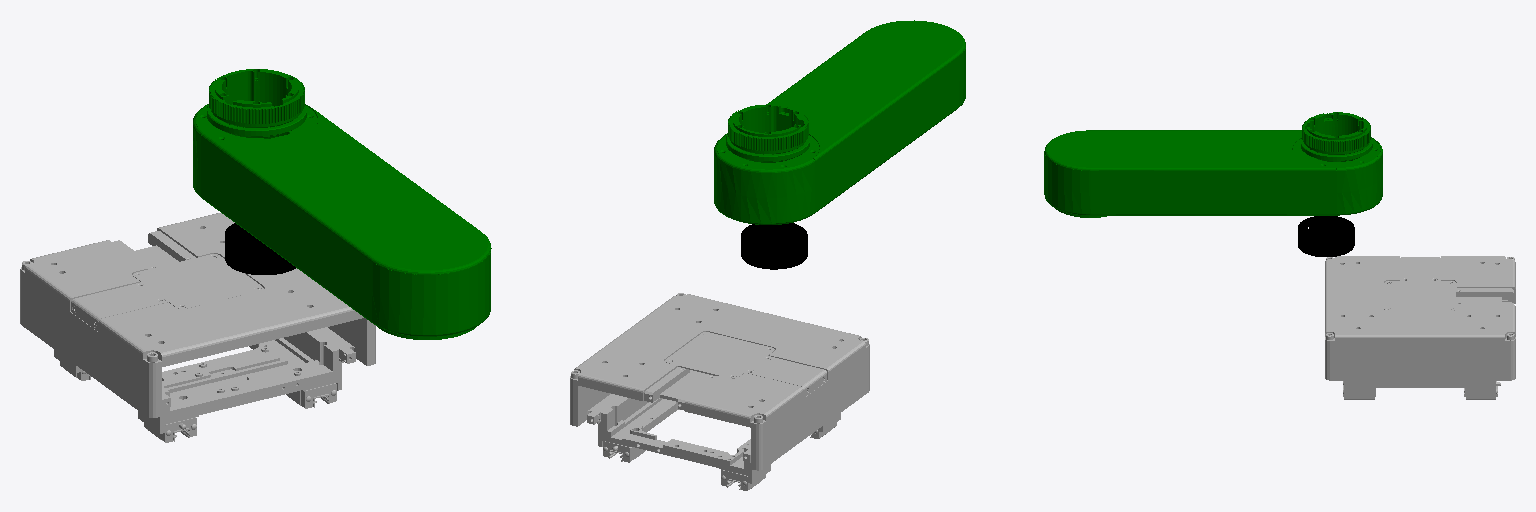
robot.urdf — pf400_description:
<?xml version="1.0" encoding="utf-8"?>
<!-- This URDF was automatically created by SolidWorks to URDF Exporter! Originally created by [author] ([email redacted]) 
     Commit Version: 1.6.0-4-g7f85cfe  Build Version: 1.6.7995.38578
     For more information, please see http://wiki.ros.org/sw_urdf_exporter -->
<robot
  name="pf400_description">
  <link
    name="base_link">
    <inertial>
      <origin
        xyz="-0.00041451 0.026054 -0.001966"
        rpy="0 0 0" />
      <mass
        value="17.991" />
      <inertia
        ixx="7.5197"
        ixy="-8.8961E-06"
        ixz="4.7695E-05"
        iyy="7.5696"
        iyz="2.0688E-06"
        izz="0.054258" />
    </inertial>
    <visual>
      <origin
        xyz="0 0 0"
        rpy="0 0 0" />
      <geometry>
        <mesh
          filename="package://pf400_description/meshes/base_link.STL" />
      </geometry>
      <material
        name="">
        <color
          rgba="0.64706 0.61961 0.58824 1" />
      </material>
    </visual>
    <collision>
      <origin
        xyz="0 0 0"
        rpy="0 0 0" />
      <geometry>
        <mesh
          filename="package://pf400_description/meshes/base_link.STL" />
      </geometry>
    </collision>
  </link>
  <link
    name="rail">
    <inertial>
      <origin
        xyz="0.0028859 0.040612 0.0031229"
        rpy="0 0 0" />
      <mass
        value="1.7574" />
      <inertia
        ixx="0.0054602"
        ixy="-4.7938E-05"
        ixz="1.3806E-05"
        iyy="0.012854"
        iyz="5.9293E-05"
        izz="0.0079198" />
    </inertial>
    <visual>
      <origin
        xyz="0 0 0"
        rpy="0 0 0" />
      <geometry>
        <mesh
          filename="package://pf400_description/meshes/rail.STL" />
      </geometry>
      <material
        name="">
        <color
          rgba="0.75294 0.75294 0.75294 1" />
      </material>
    </visual>
    <collision>
      <origin
        xyz="0 0 0"
        rpy="0 0 0" />
      <geometry>
        <mesh
          filename="package://pf400_description/meshes/rail.STL" />
      </geometry>
    </collision>
  </link>
  <joint
    name="rail_joint"
    type="prismatic">
    <origin
      xyz="0 0.011 0.032"
      rpy="1.5708 0 0" />
    <parent
      link="base_link" />
    <child
      link="rail" />
    <axis
      xyz="0 0 0" />
    <limit
      lower="0"
      upper="0"
      effort="0"
      velocity="0" />
  </joint>
  <link
    name="tower">
    <inertial>
      <origin
        xyz="-0.00086637 0.68242 -0.043894"
        rpy="0 0 0" />
      <mass
        value="5.7231" />
      <inertia
        ixx="0.82016"
        ixy="0.0016757"
        ixz="-0.00020393"
        iyy="0.026182"
        iyz="-0.0003951"
        izz="0.82953" />
    </inertial>
    <visual>
      <origin
        xyz="0 0 0"
        rpy="0 0 0" />
      <geometry>
        <mesh
          filename="package://pf400_description/meshes/tower.STL" />
      </geometry>
      <material
        name="">
        <color
          rgba="0.64706 0.61961 0.58431 1" />
      </material>
    </visual>
    <collision>
      <origin
        xyz="0 0 0"
        rpy="0 0 0" />
      <geometry>
        <mesh
          filename="package://pf400_description/meshes/tower.STL" />
      </geometry>
    </collision>
  </link>
  <joint
    name="tower_joint"
    type="prismatic">
    <origin
      xyz="0.0003782 0.0902 0"
      rpy="0 0 0" />
    <parent
      link="rail" />
    <child
      link="tower" />
    <axis
      xyz="0 0 0" />
    <limit
      lower="0"
      upper="0"
      effort="0"
      velocity="0" />
  </joint>
  <link
    name="inner_link">
    <inertial>
      <origin
        xyz="0.0022202 -0.020187 0.0058266"
        rpy="0 0 0" />
      <mass
        value="0.10693" />
      <inertia
        ixx="6.787E-05"
        ixy="3.7413E-07"
        ixz="-2.7126E-07"
        iyy="7.2417E-05"
        iyz="-2.8738E-07"
        izz="0.00013136" />
    </inertial>
    <visual>
      <origin
        xyz="0 0 0"
        rpy="0 0 0" />
      <geometry>
        <mesh
          filename="package://pf400_description/meshes/inner_link.STL" />
      </geometry>
      <material
        name="">
        <color
          rgba="0 0.49804 0 1" />
      </material>
    </visual>
    <collision>
      <origin
        xyz="0 0 0"
        rpy="0 0 0" />
      <geometry>
        <mesh
          filename="package://pf400_description/meshes/inner_link.STL" />
      </geometry>
    </collision>
  </link>
  <joint
    name="inner_link_joint"
    type="revolute">
    <origin
      xyz="0.00020005 0.19773 0.10265"
      rpy="-1.5708 0 0" />
    <parent
      link="tower" />
    <child
      link="inner_link" />
    <axis
      xyz="0 0 0" />
    <limit
      lower="0"
      upper="0"
      effort="0"
      velocity="0" />
  </joint>
  <link
    name="outer_link">
    <inertial>
      <origin
        xyz="0.00033501 0.033171 0.23866"
        rpy="0 0 0" />
      <mass
        value="0.1216" />
      <inertia
        ixx="7.8784E-05"
        ixy="1.4155E-09"
        ixz="-6.4526E-08"
        iyy="0.00015812"
        iyz="-1.1506E-09"
        izz="8.7907E-05" />
    </inertial>
    <visual>
      <origin
        xyz="0 0 0"
        rpy="0 0 0" />
      <geometry>
        <mesh
          filename="package://pf400_description/meshes/outer_link.STL" />
      </geometry>
      <material
        name="">
        <color
          rgba="1 1 0 1" />
      </material>
    </visual>
    <collision>
      <origin
        xyz="0 0 0"
        rpy="0 0 0" />
      <geometry>
        <mesh
          filename="package://pf400_description/meshes/outer_link.STL" />
      </geometry>
    </collision>
  </link>
  <joint
    name="outer_link_joint"
    type="revolute">
    <origin
      xyz="0 -0.013 -0.098775"
      rpy="1.5708 0 0" />
    <parent
      link="inner_link" />
    <child
      link="outer_link" />
    <axis
      xyz="0 0 0" />
    <limit
      lower="0"
      upper="0"
      effort="0"
      velocity="0" />
  </joint>
  <link
    name="end_effector">
    <inertial>
      <origin
        xyz="-0.022182 -0.013407 0.024316"
        rpy="0 0 0" />
      <mass
        value="0.065158" />
      <inertia
        ixx="2.4492E-05"
        ixy="-1.316E-08"
        ixz="-1.9273E-10"
        iyy="4.2008E-05"
        iyz="2.4792E-08"
        izz="2.4392E-05" />
    </inertial>
    <visual>
      <origin
        xyz="0 0 0"
        rpy="0 0 0" />
      <geometry>
        <mesh
          filename="package://pf400_description/meshes/end_effector.STL" />
      </geometry>
      <material
        name="">
        <color
          rgba="0 0 0 1" />
      </material>
    </visual>
    <collision>
      <origin
        xyz="0 0 0"
        rpy="0 0 0" />
      <geometry>
        <mesh
          filename="package://pf400_description/meshes/end_effector.STL" />
      </geometry>
    </collision>
  </link>
  <joint
    name="end_effector_joint"
    type="revolute">
    <origin
      xyz="0.022804 -0.0082758 -0.024541"
      rpy="0 0 0" />
    <parent
      link="outer_link" />
    <child
      link="end_effector" />
    <axis
      xyz="0 0 0" />
    <limit
      lower="0"
      upper="0"
      effort="0"
      velocity="0" />
  </joint>
</robot>

--- Render facts (derived) ---
3 views of the same robot in one strip: view 1: azimuth 30°, elevation 25°; view 2: azimuth 150°, elevation 25°; view 3: azimuth 270°, elevation 25° (orthographic).
Robot: pf400_description — 6 links, 5 joints (3 revolute, 2 prismatic); root link base_link; default pose: every joint at zero.
Visible links, largest first — view 1: rail, inner_link, end_effector; view 2: rail, inner_link, end_effector; view 3: inner_link, rail, end_effector.
Boxes of the visible links, x1,y1,x2,y2 form: rail: (20, 213, 375, 442); inner_link: (193, 69, 491, 339); end_effector: (225, 223, 295, 274); rail: (570, 293, 869, 490); inner_link: (714, 20, 965, 224); end_effector: (741, 223, 807, 269); inner_link: (1044, 112, 1382, 217); rail: (1325, 256, 1515, 399); end_effector: (1298, 216, 1354, 256).
Size in the robot's own frame: 0.234 by 0.5787 by 0.3318 metres.
Meshes: 6 distinct files referenced, 3 mesh visuals loaded (3 binary STL); not drawn: 2 (reference not matched to a file when rendering), 1 (file found but could not be loaded).